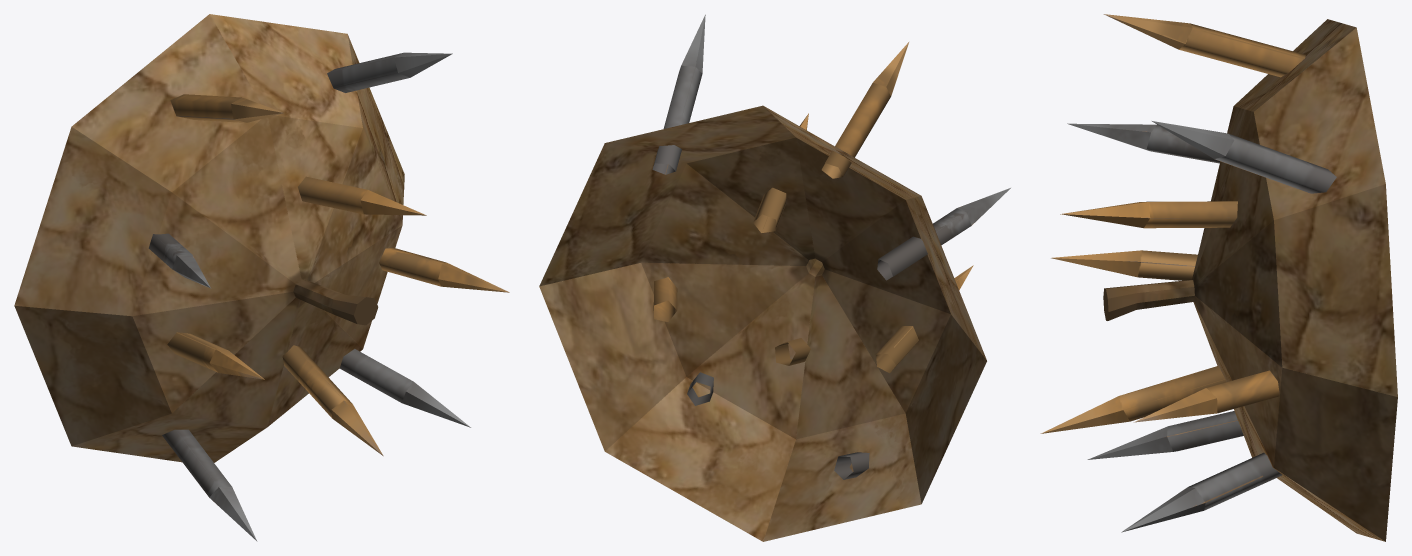
Rendered from WeaponGrasshopper.fbx.
3 views of the same model, side by side, from view 1: azimuth 30°, elevation 25°; view 2: azimuth 150°, elevation 25°; view 3: azimuth 270°, elevation 25° (orthographic). The views are drawn at different scales.
Visible parts, largest first — view 1: Eikel; view 2: Eikel; view 3: Eikel.
Part boxes in pixels (x1,y1,x2,y2): Eikel: [14, 14, 509, 541]; Eikel: [539, 14, 1010, 541]; Eikel: [1040, 14, 1397, 541].
Size of the model in its own units: 3.38 by 3.42 by 2.19.
